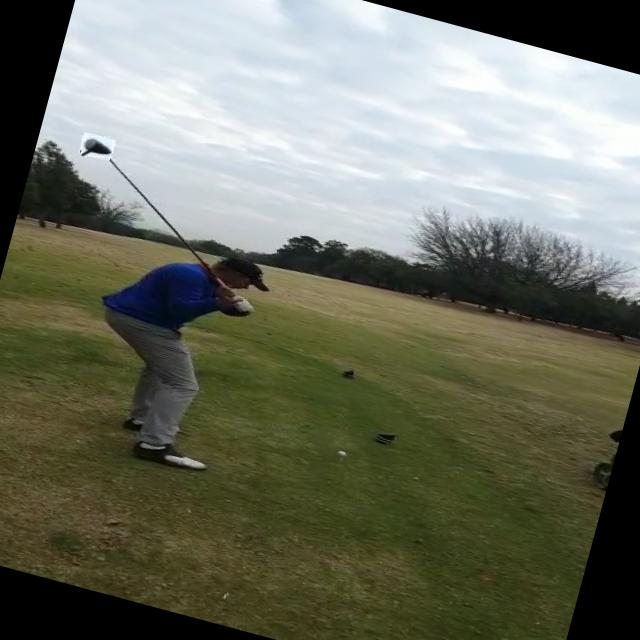club head: (78, 132, 115, 162)
